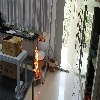fire: (33, 46, 40, 77)
